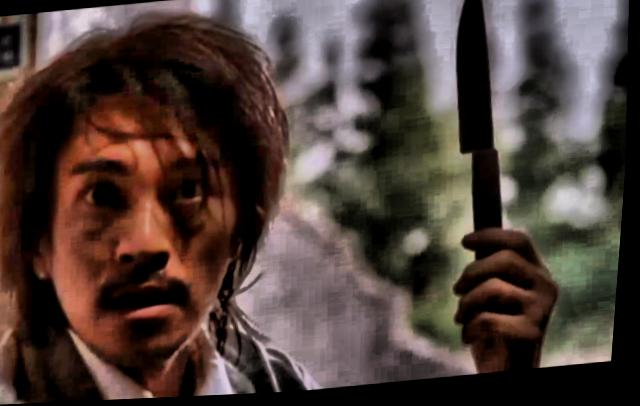knife: (426, 0, 534, 289)
